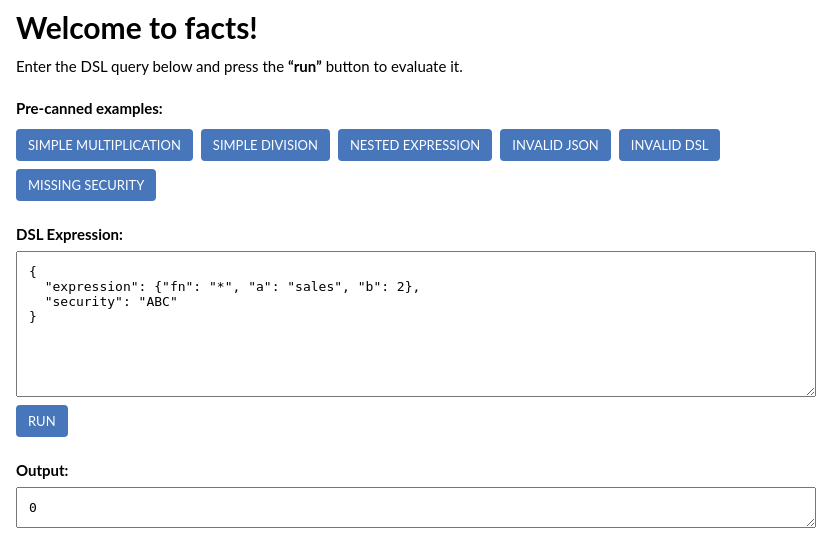
Scenario: Index page › should set the expression when an example button is clicked
Click the button with test id "button-divide": (265, 145) [201, 129, 330, 161]
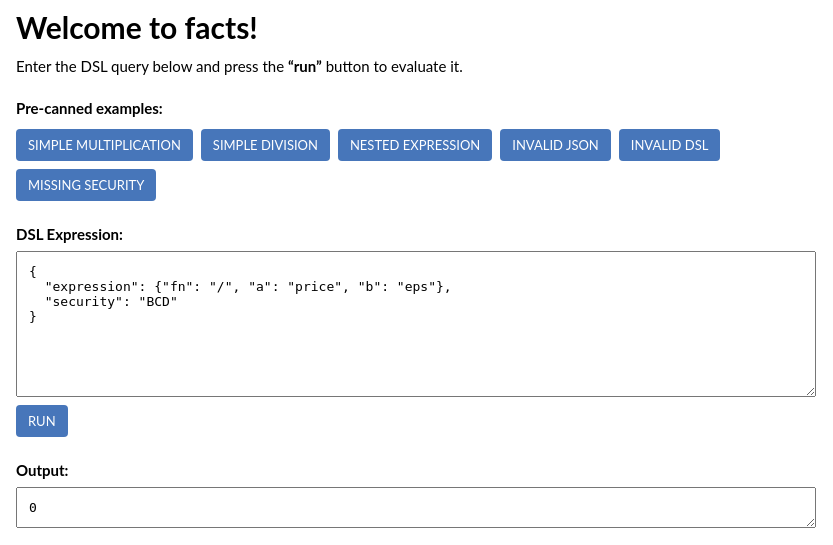
Now the text box with test id "expression-input" holds "{   \"expression\": {\"fn\": \"/\", \"a\": \"price\", \"b\": \"eps\"},   \"security\": \"BCD\" }", box [16, 251, 816, 397]
